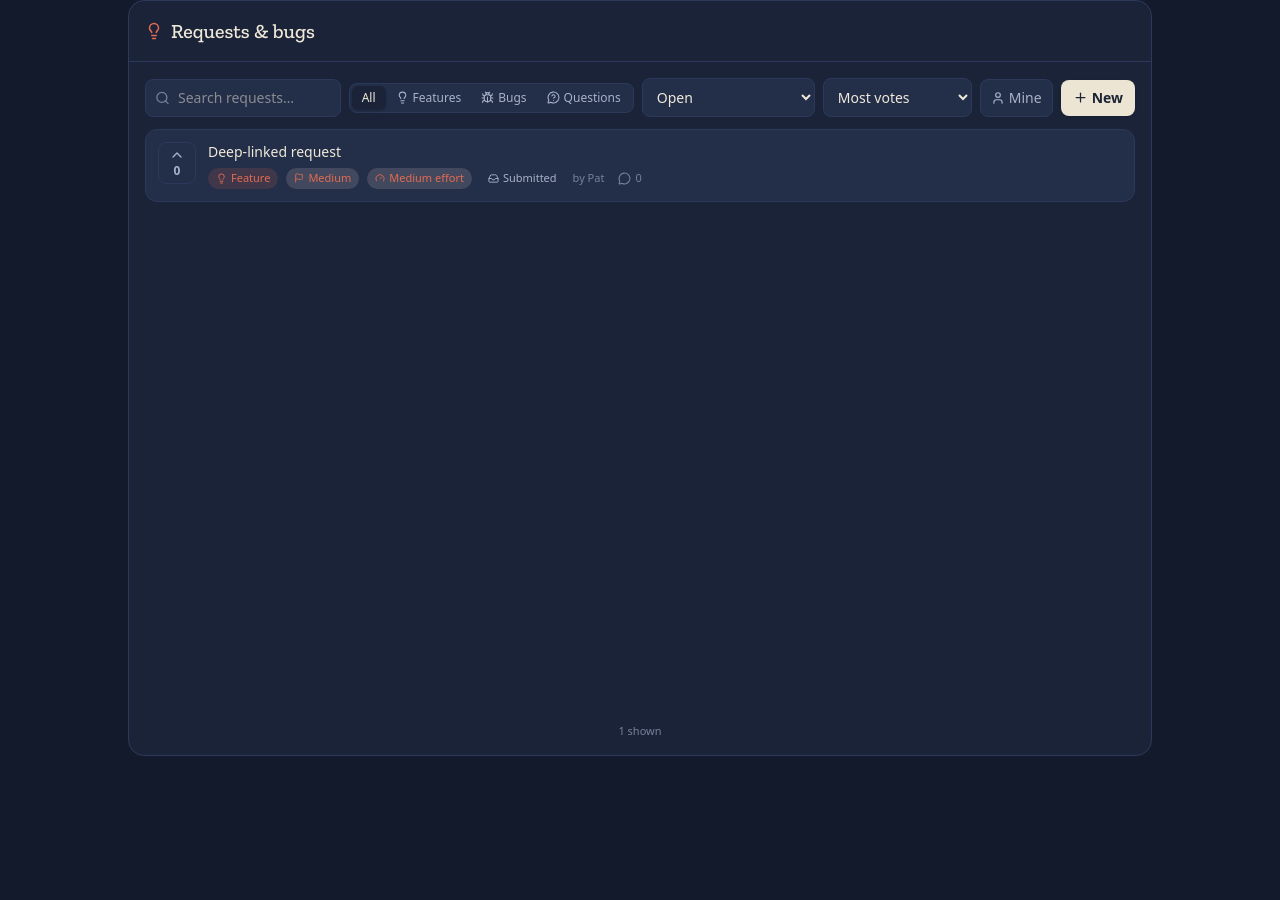
Test case: IssueBoard composer coexists with the list (regression) › keeps existing issues visible and caps the composer when composing
Check: the text "Deep-linked request" is shown, box [208, 142, 341, 161]
Step 1. Click the button "New" → (1098, 98), box [1061, 80, 1135, 116]
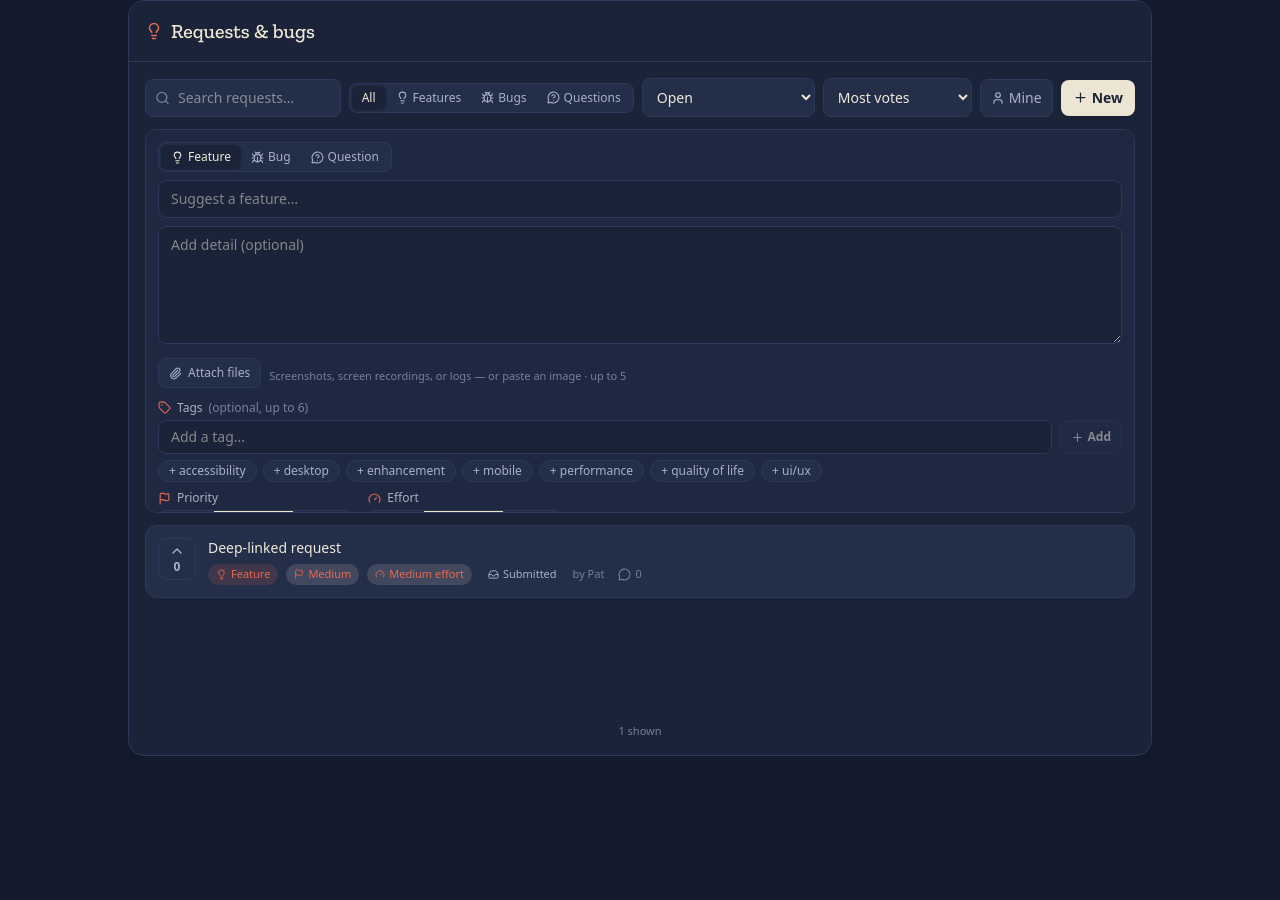
Check: the element with placeholder "Suggest a feature" is shown, box [145, 129, 1135, 710]
Check: the field with placeholder "Suggest a feature…" is shown, box [158, 180, 1122, 218]
